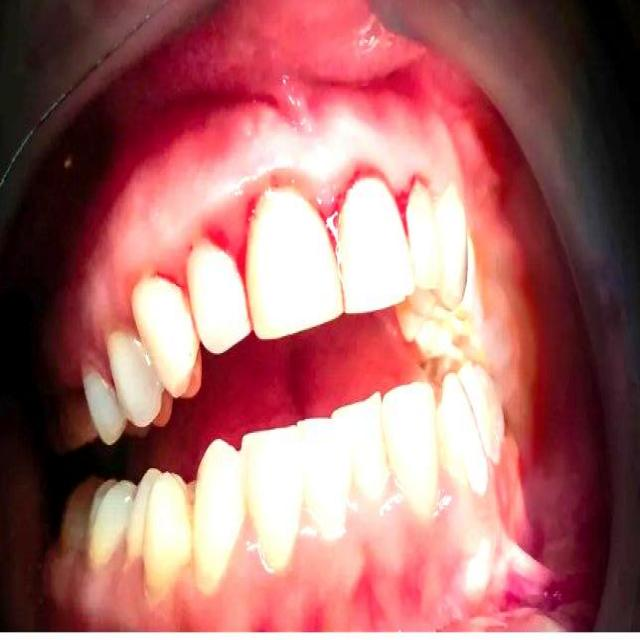gingivitis: (91, 92, 463, 318), (46, 548, 469, 609)
